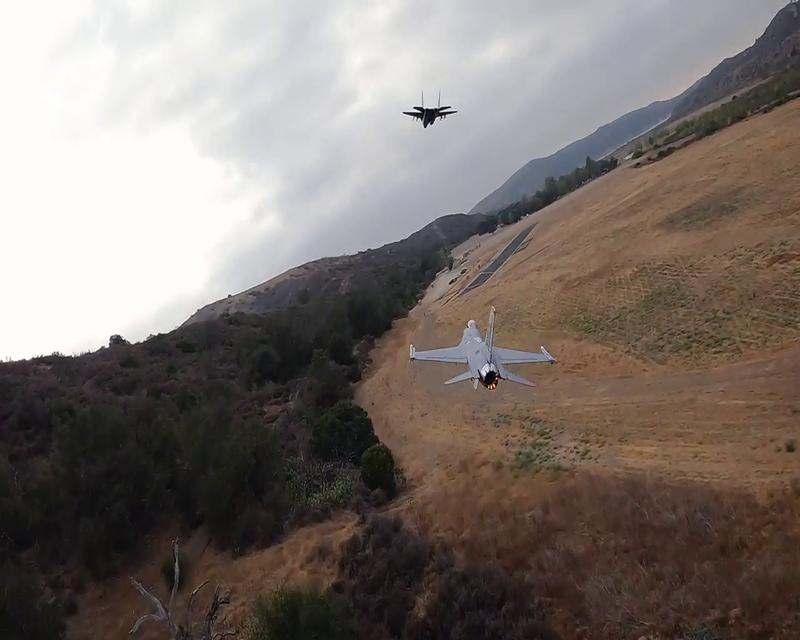UAV: (407, 304, 555, 392), (401, 89, 458, 128)
